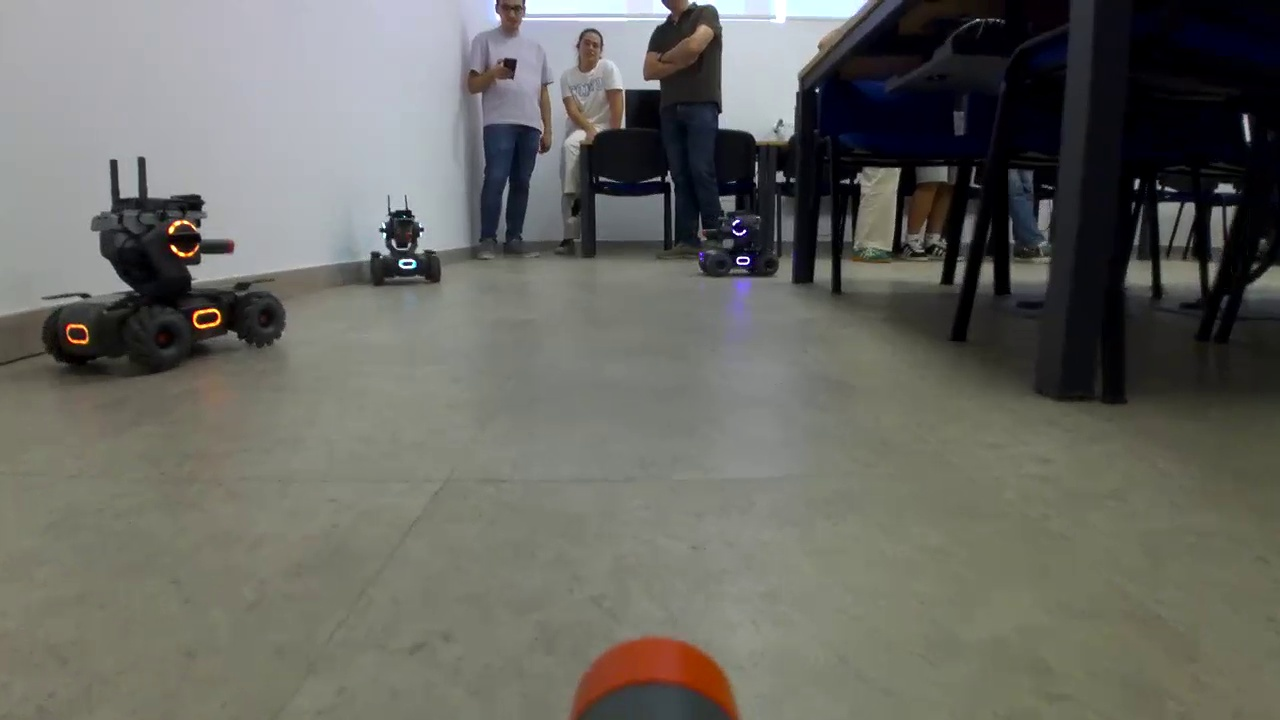robot: (49, 191, 294, 373), (701, 205, 779, 286), (364, 212, 444, 287)
